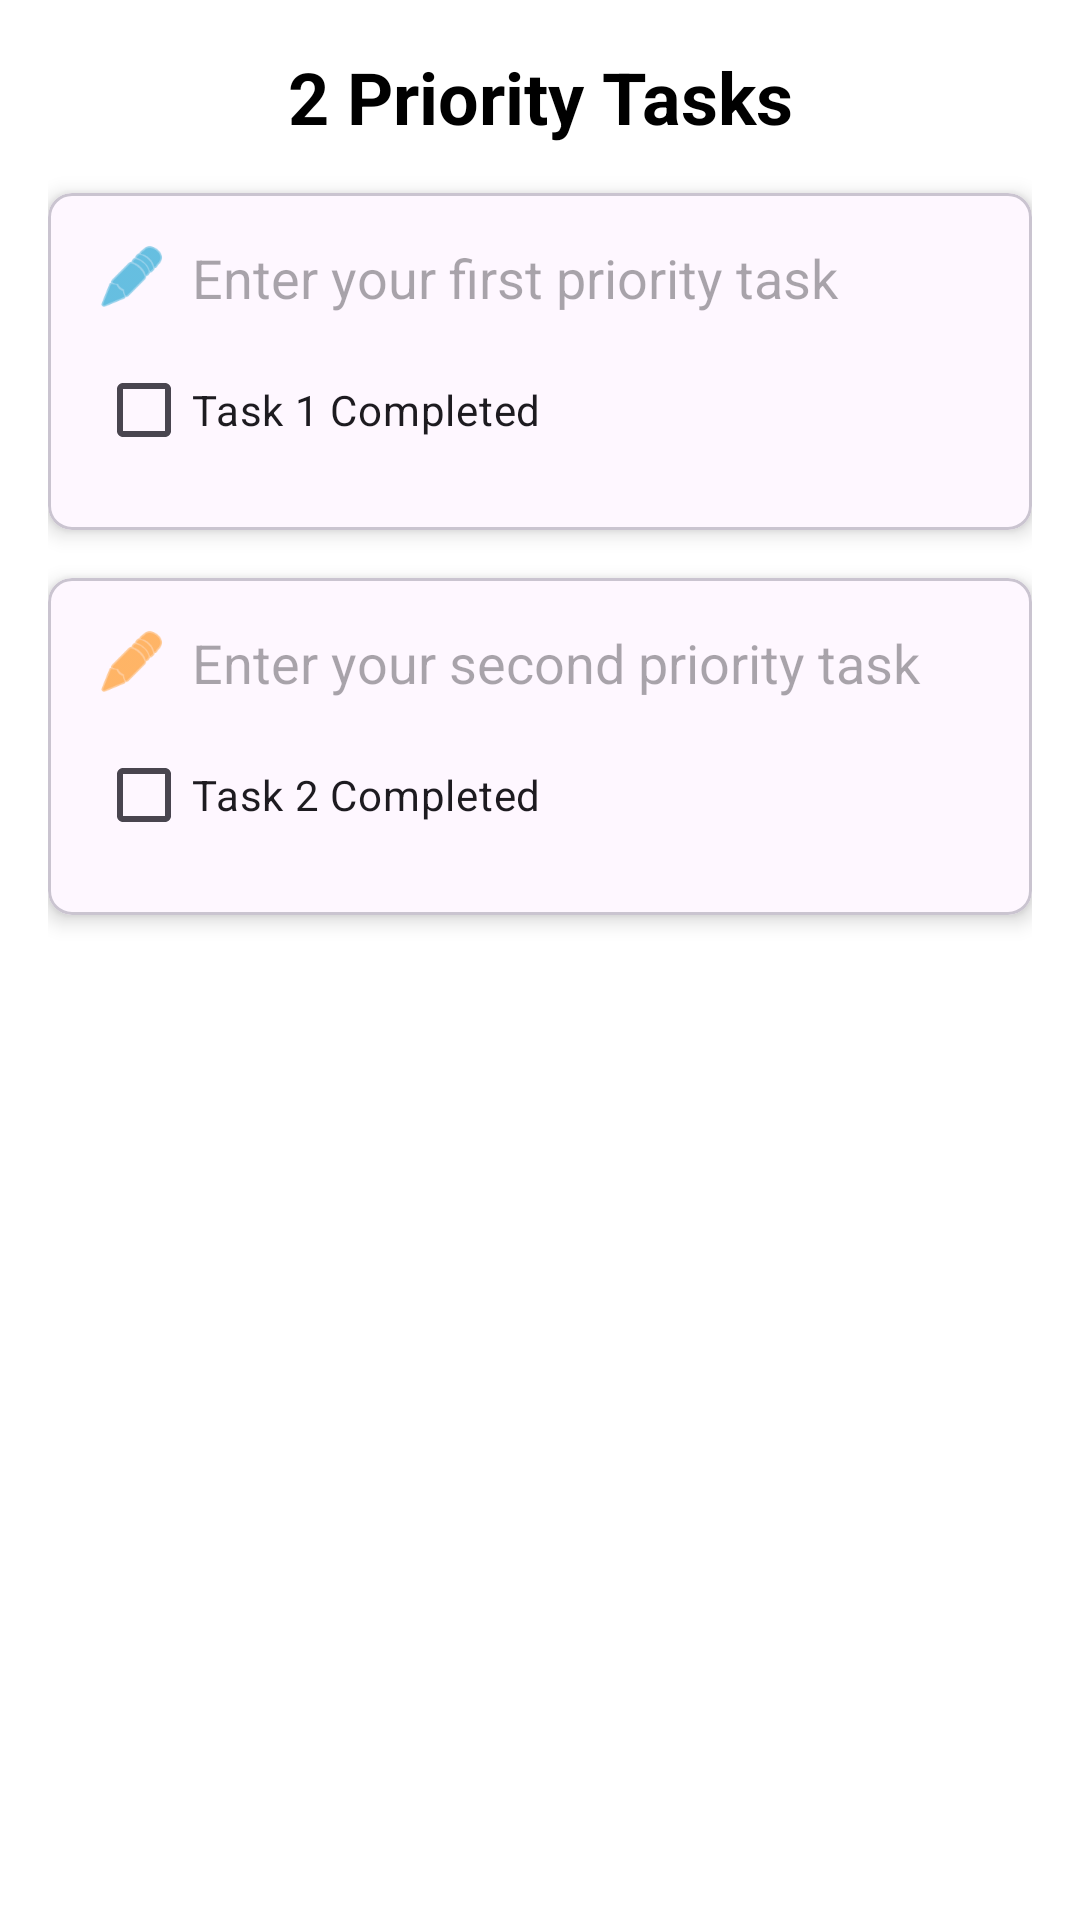

Named icons in this screenshot (1080*1920) and their bounding boxes, (x1, y1, x2, y2):
edit: (101, 246, 162, 307), (101, 631, 162, 692)
